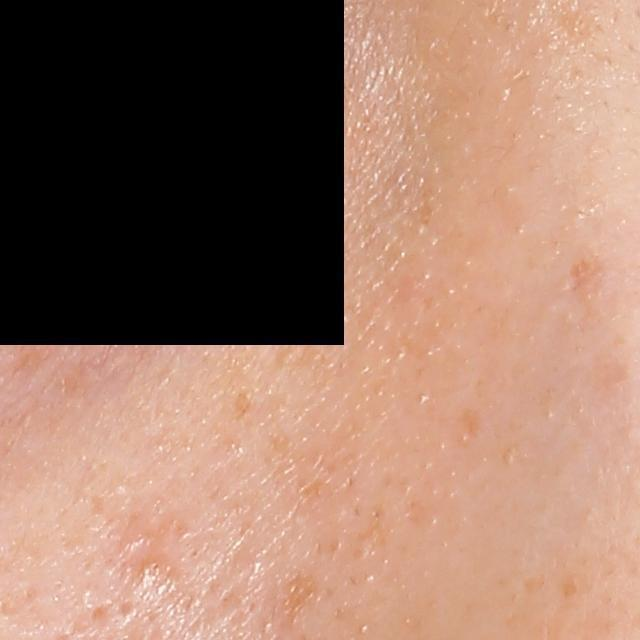melasma: (263, 430, 360, 505), (276, 568, 327, 629), (566, 242, 605, 316), (269, 313, 309, 373), (227, 384, 252, 425)
